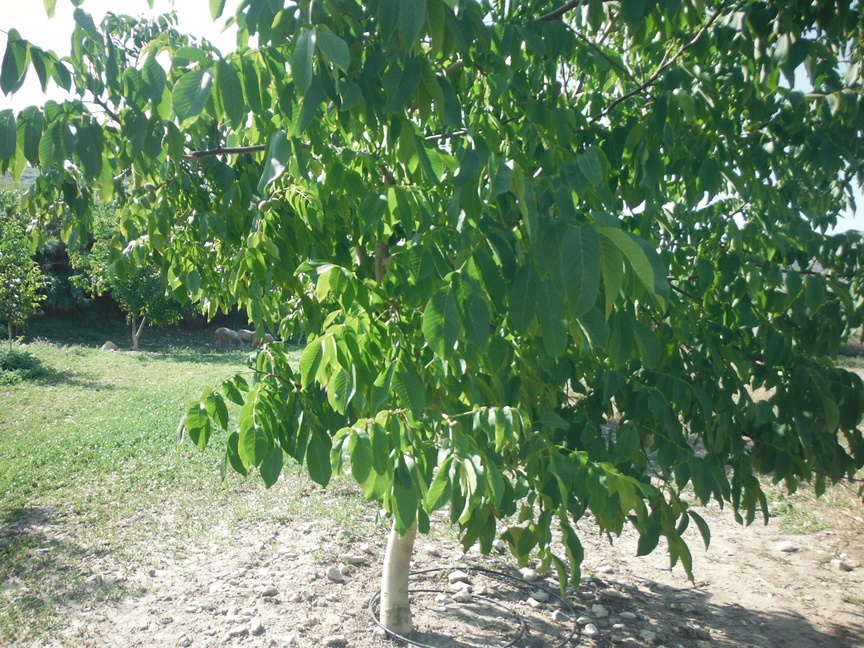walnut: (639, 431, 658, 450), (688, 120, 705, 138), (255, 198, 273, 213), (752, 251, 768, 267), (269, 194, 283, 211), (145, 190, 159, 205), (550, 78, 564, 93), (142, 180, 157, 193)
